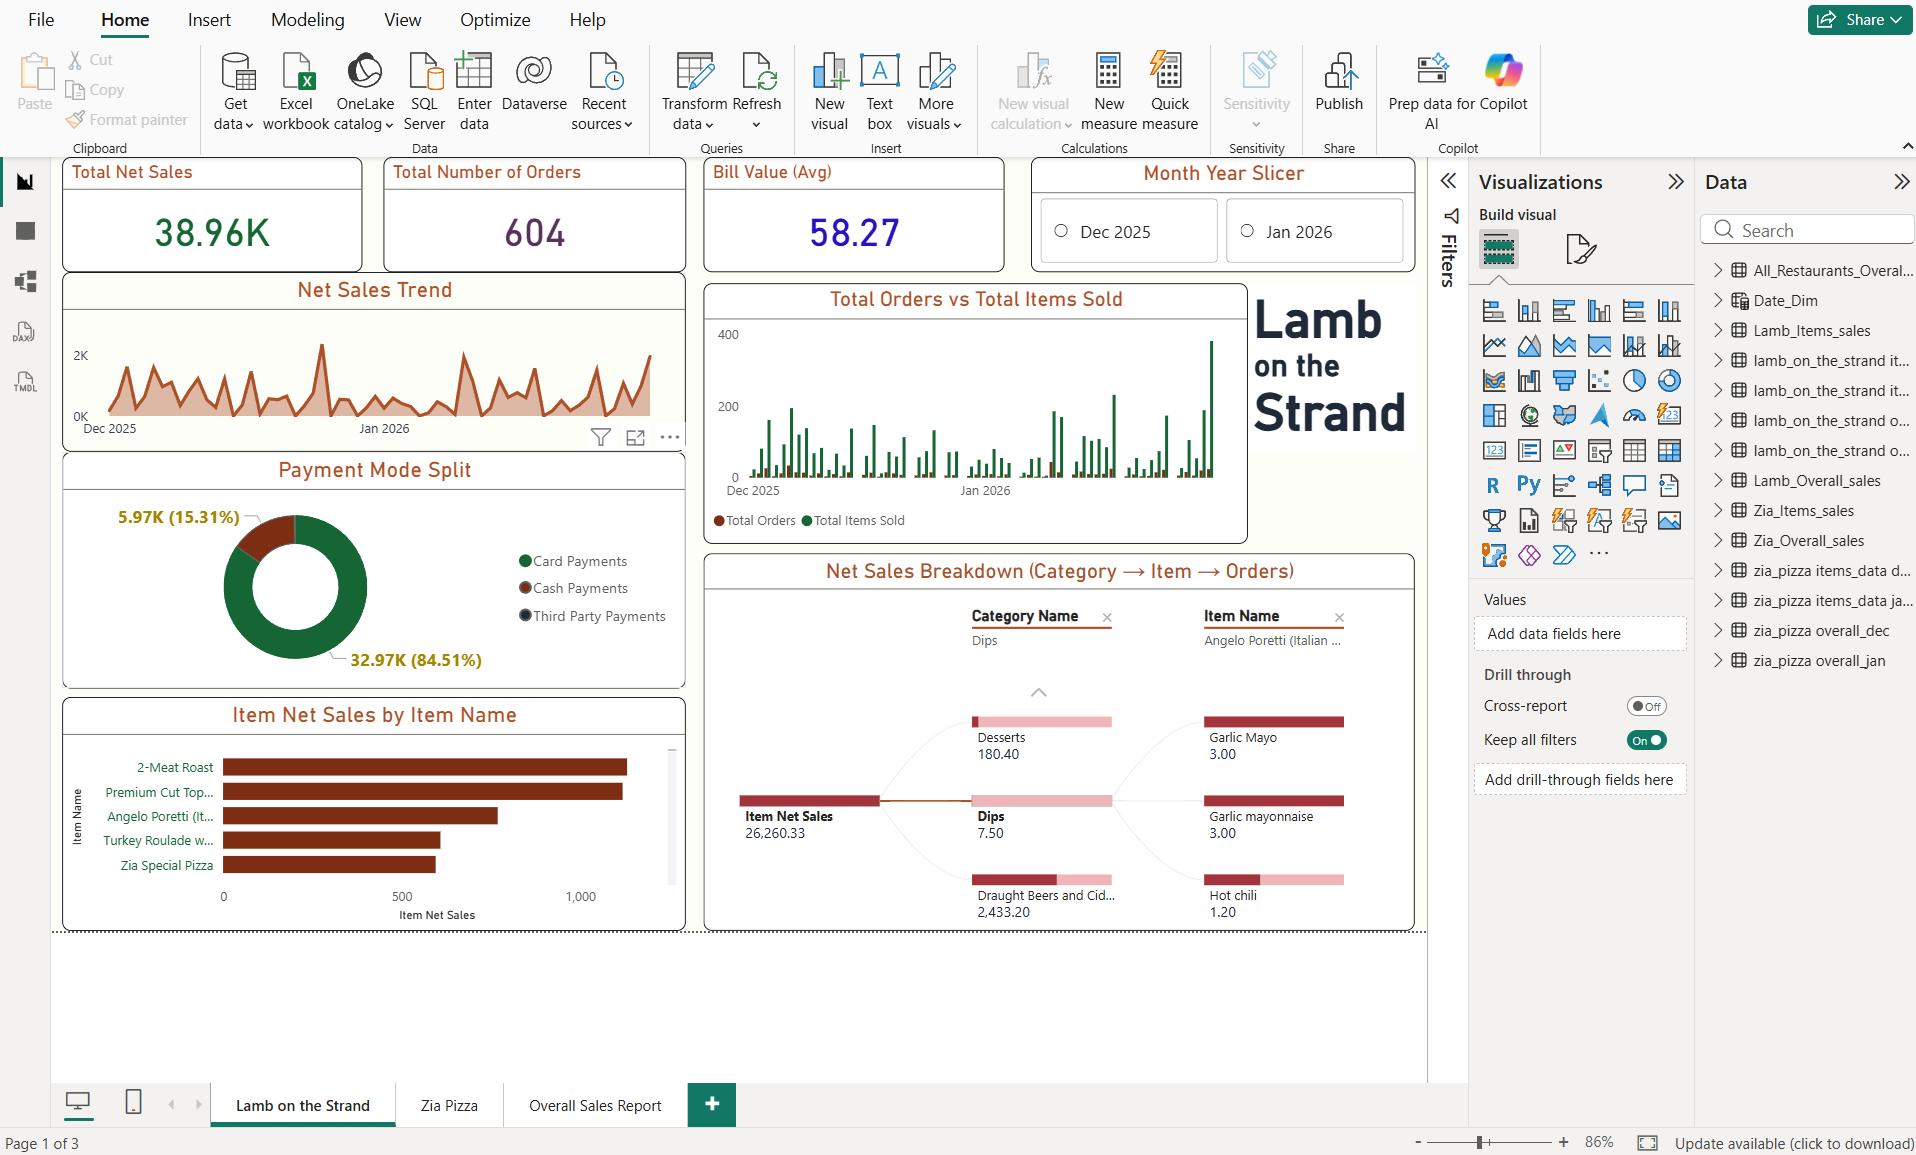

What the dashboard file says about the page in this screenshot:
{"tool":"powerbi","page":{"name":"Lamb on the Strand","canvas":[1280,720],"ordinal":0},"visuals":[{"type":"card","title":"Total Net Sales","fields":{"Values":["Lamb_Overall_sales.Total Net Sales"]},"box":[10.5,0,279.1,107],"z":0},{"type":"card","title":"Total Number of Orders","fields":{"Values":["Lamb_Overall_sales.Total Orders"]},"box":[308.8,0,281.2,107.5],"z":1000},{"type":"card","title":"Bill Value (Avg)","fields":{"Values":["Lamb_Overall_sales.Average Bill Value"]},"box":[607.5,0,280,107.5],"z":2000},{"type":"lineChart","title":"Net Sales Trend","fields":{"Y":["Lamb_Overall_sales.Total Net Sales"],"Category":["Lamb_Overall_sales.Date"]},"box":[10,107.5,580,167.5],"z":3000},{"type":"pieChart","title":"Payment Mode Split","fields":{"Y":["Lamb_Overall_sales.Card Payments","Lamb_Overall_sales.Cash Payments","Lamb_Overall_sales.Third Party Payments"]},"box":[10.5,274.4,580.2,219.8],"z":4000},{"type":"clusteredColumnChart","title":"Total Orders vs Total Items Sold ","fields":{"Y":["Lamb_Overall_sales.Total Orders","Lamb_Overall_sales.Total Items Sold"],"Category":["Lamb_Overall_sales.Date.Variation.Date Hierarchy.Year"]},"box":[607.5,117.5,506.2,242.5],"z":5000},{"type":"clusteredBarChart","fields":{"Category":["Lamb_Items_sales.Item Name"],"Y":["Lamb_Items_sales.Item Net Sales"]},"box":[10.5,502.3,580.2,217.4],"z":6000},{"type":"decompositionTreeVisual","title":"Net Sales Breakdown (Category → Item → Orders)","fields":{"ExplainBy":["Lamb_Items_sales.Category Name","Lamb_Items_sales.Item Name","Date_Dim.Month Year","Lamb_Items_sales.Orders"],"Analyze":["Lamb_Items_sales.Item Net Sales"]},"box":[607.5,368.8,661.2,351.2],"z":7000},{"type":"advancedSlicerVisual","title":"Month Year Slicer","fields":{"Values":["Date_Dim.Month Year"],"Label":["Min(Date_Dim.Month Name)"]},"box":[911.2,0,357.5,107.5],"z":8000},{"type":"textbox","box":[1113.8,117.5,155,157.5],"z":9000}]}

Visuals, with their boxes on the page's 1280x720 design canvas (x1, y1, x2, y2). These are canvas units, not pixel positions in the 1916x1155 screenshot, which may show the page scaled, cropped or inside an application window:
"Total Net Sales" card: l=10, t=0, r=290, b=107
"Total Number of Orders" card: l=309, t=0, r=590, b=108
"Bill Value (Avg)" card: l=608, t=0, r=888, b=108
"Net Sales Trend" lineChart: l=10, t=108, r=590, b=275
"Payment Mode Split" pieChart: l=10, t=274, r=591, b=494
"Total Orders vs Total Items Sold " clusteredColumnChart: l=608, t=118, r=1114, b=360
clusteredBarChart - Lamb_Items_sales.Item Name x Lamb_Items_sales.Item Net Sales: l=10, t=502, r=591, b=720
"Net Sales Breakdown (Category → Item → Orders)" decompositionTreeVisual: l=608, t=369, r=1269, b=720
"Month Year Slicer" advancedSlicerVisual: l=911, t=0, r=1269, b=108
textbox: l=1114, t=118, r=1269, b=275
